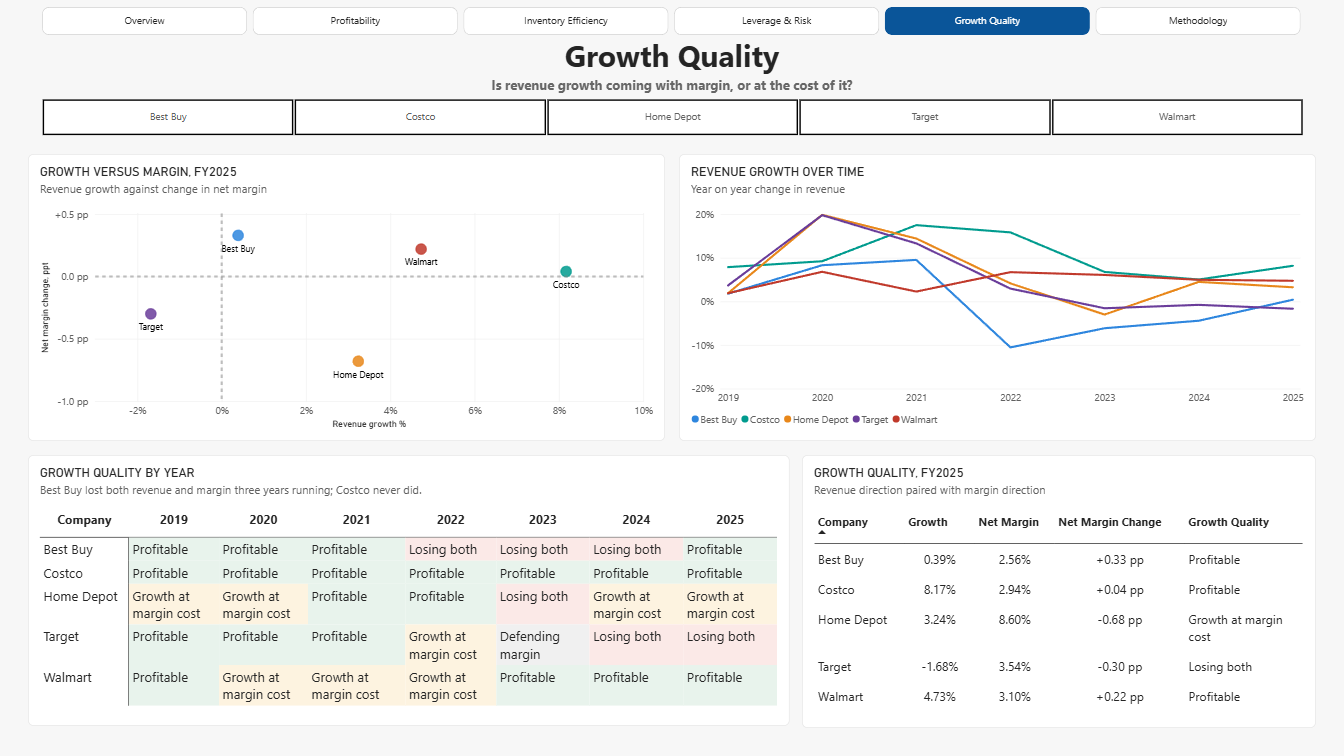

Layout of this report page (visuals, bound fields, positions):
{"tool":"powerbi","page":{"name":"Growth Quality","canvas":[1920,1080],"ordinal":4},"visuals":[{"type":"slicer","fields":{"Values":["Company.Company"]},"box":[40,140,1840,54.5],"z":0},{"type":"textbox","title":"Growth Quality","box":[40,50,1840,60],"z":1000},{"type":"textbox","title":"Is revenue growth coming with margin, or at the cost of it?","box":[40,108,1840,26],"z":2000},{"type":"scatterChart","title":"GROWTH VERSUS MARGIN, FY2025","fields":{"X":["Avg(Financials.Revenue Growth %)"],"Y":["Avg(Financials.Net Margin Change)"],"Series":["Company.Company"]},"box":[40.1,220,910,410],"z":3000},{"type":"tableEx","title":"GROWTH QUALITY, FY2025","fields":{"Values":["Company.Company","Financials.Revenue Growth %","_Measures.Net Margin %","Avg(Financials.Net Margin Change)","Financials.Growth Quality"]},"box":[1145.2,650,734.2,389.7],"z":4000},{"type":"lineChart","title":"REVENUE GROWTH OVER TIME","fields":{"Series":["Company.Company"],"Category":["Fiscal Year.Fiscal Year"],"Y":["Avg(Financials.Revenue Growth %)"]},"box":[970,220,910,410.2],"z":5000},{"type":"pivotTable","title":"GROWTH QUALITY BY YEAR","fields":{"Rows":["Company.Company"],"Columns":["Fiscal Year.Fiscal Year"],"Values":["Min(Financials.Growth Quality)"]},"box":[39.9,650,1088.4,386.6],"z":6000},{"type":"pageNavigator","box":[60,10,1800,40],"z":7000}]}

Visuals, with their boxes in screenshot pixels (x1, y1, x2, y2), scaled from the page's 1920x1080 canvas onto the 1344x756 screenshot:
slicer - Company.Company: <region>28, 98, 1316, 136</region>
"Growth Quality" textbox: <region>28, 35, 1316, 77</region>
"Is revenue growth coming with margin, or at the cost of it?" textbox: <region>28, 76, 1316, 94</region>
"GROWTH VERSUS MARGIN, FY2025" scatterChart: <region>28, 154, 665, 441</region>
"GROWTH QUALITY, FY2025" tableEx: <region>802, 455, 1316, 728</region>
"REVENUE GROWTH OVER TIME" lineChart: <region>679, 154, 1316, 441</region>
"GROWTH QUALITY BY YEAR" pivotTable: <region>28, 455, 790, 726</region>
pageNavigator: <region>42, 7, 1302, 35</region>
